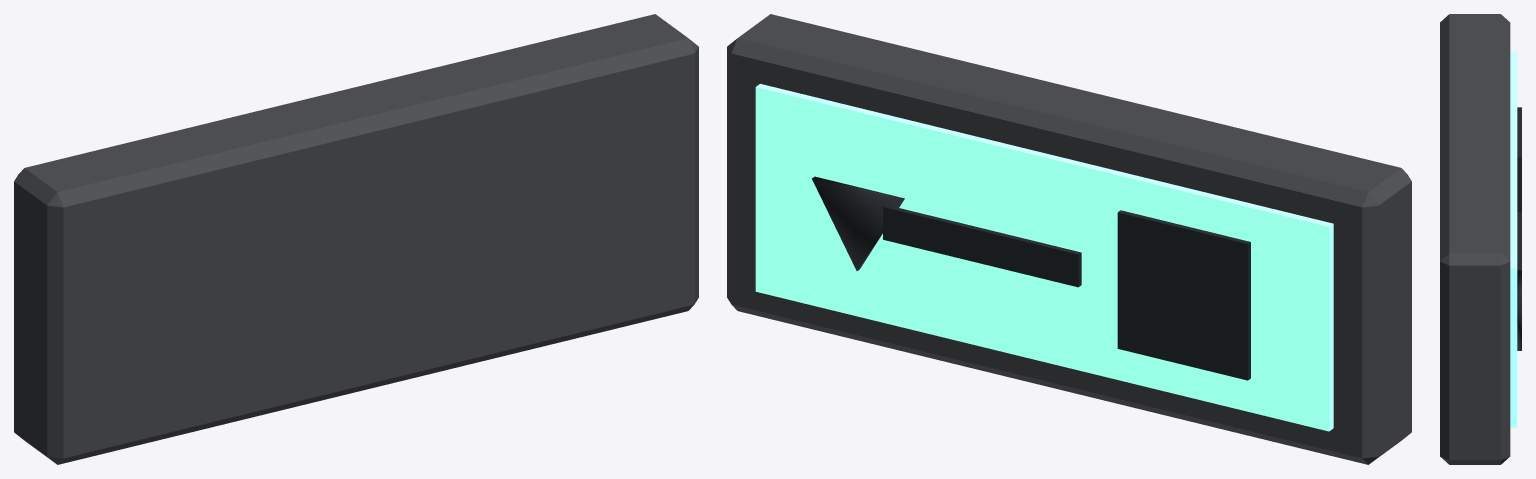
File: exit_sign.glb
3 renders of one model, left to right at view 1: azimuth 30°, elevation 25°; view 2: azimuth 150°, elevation 25°; view 3: azimuth 270°, elevation 25°, orthographic. The views are drawn at different scales.
Parts seen in each view (by area): view 1: exit_sign; view 2: exit_sign; view 3: exit_sign.
Boxes of the visible parts, box(x1,y1,x2,y2) form: exit_sign: box(14, 14, 698, 464); exit_sign: box(727, 14, 1411, 464); exit_sign: box(1440, 14, 1521, 464).
Bounding box in the file's own units: 0.5 × 0.2 × 0.07.
